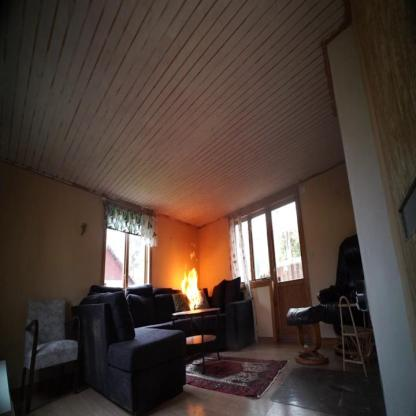fire: (179, 264, 204, 314)
